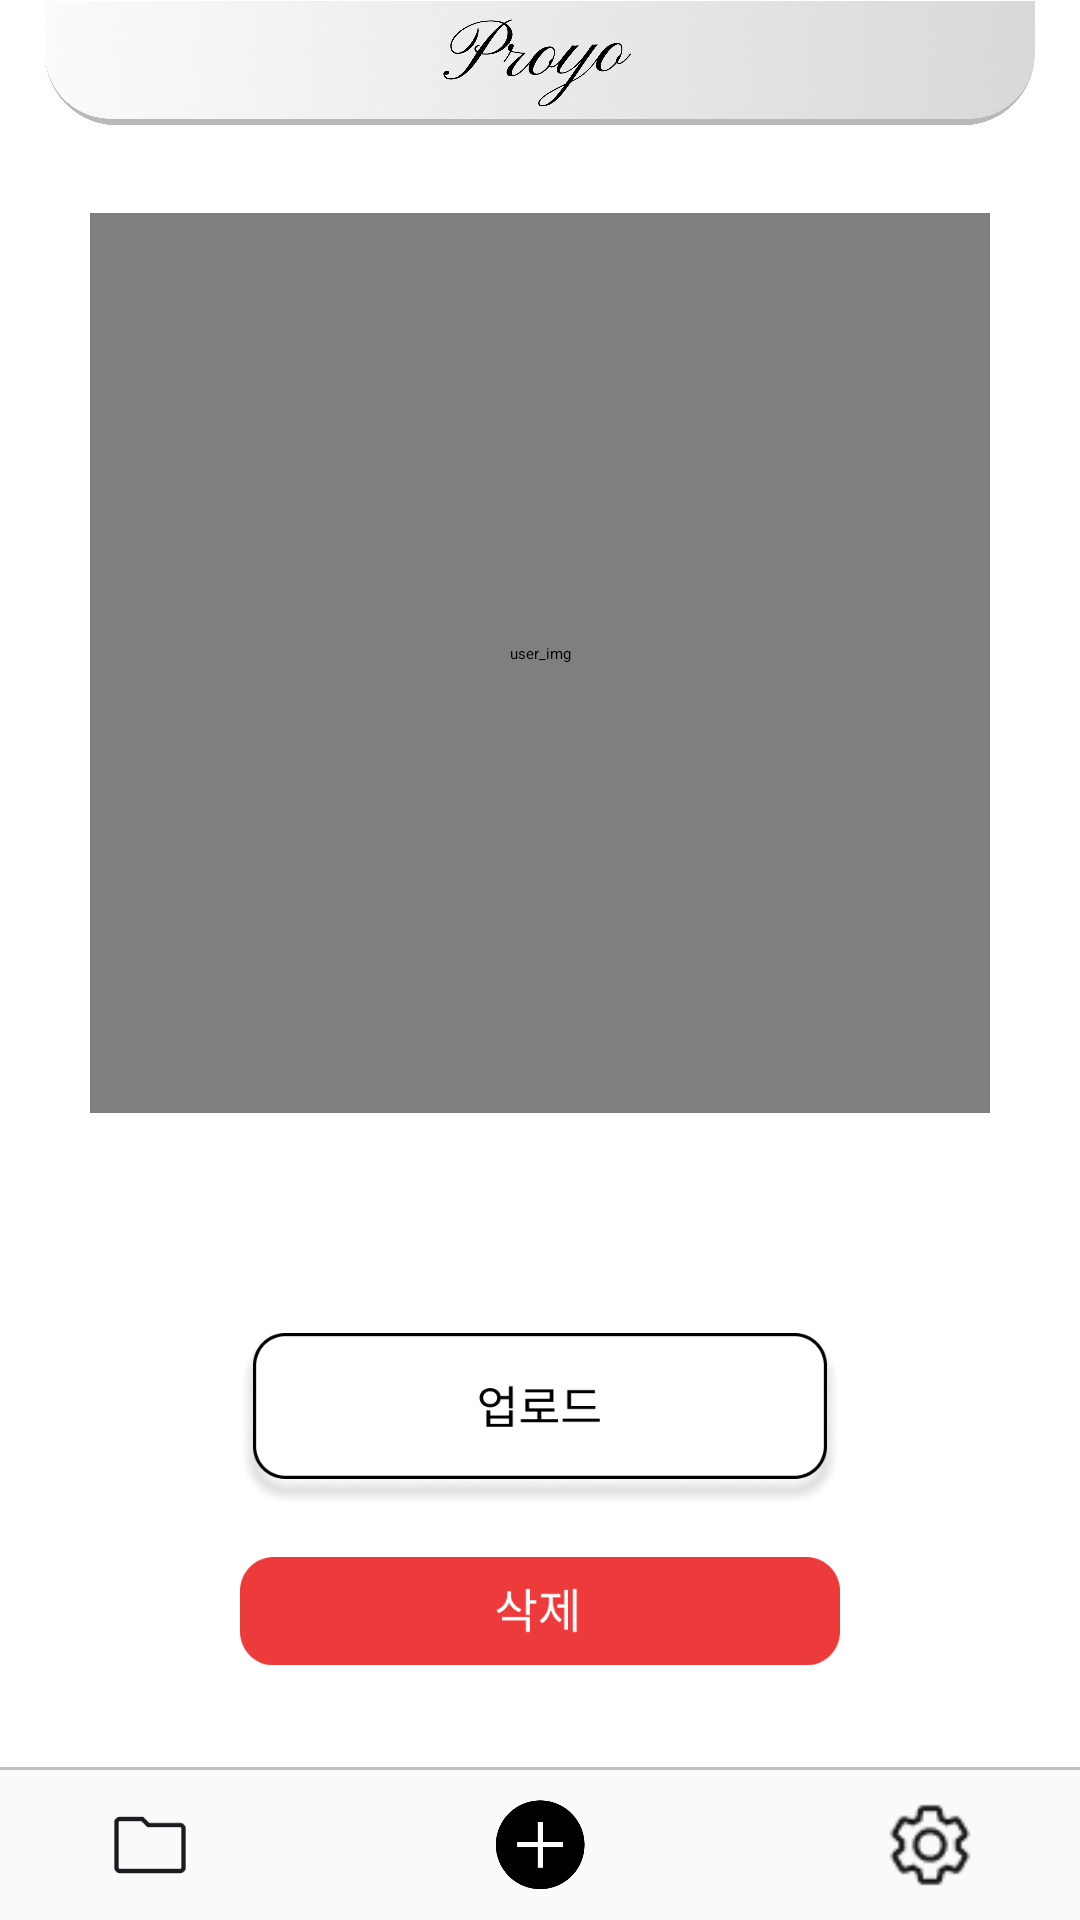

Point at icon controls on the screen. Image size 1080×1920, points as point (x, y).
문제 목록: point (150, 1845)
설정: point (930, 1845)
